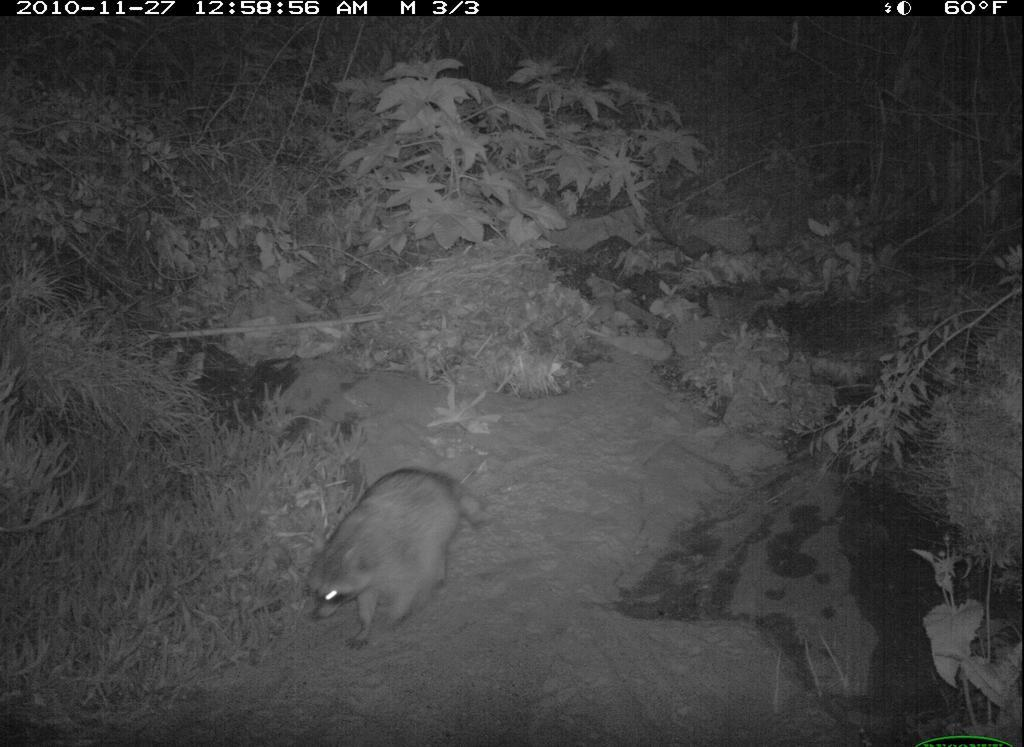raccoon: (285, 449, 487, 643)
